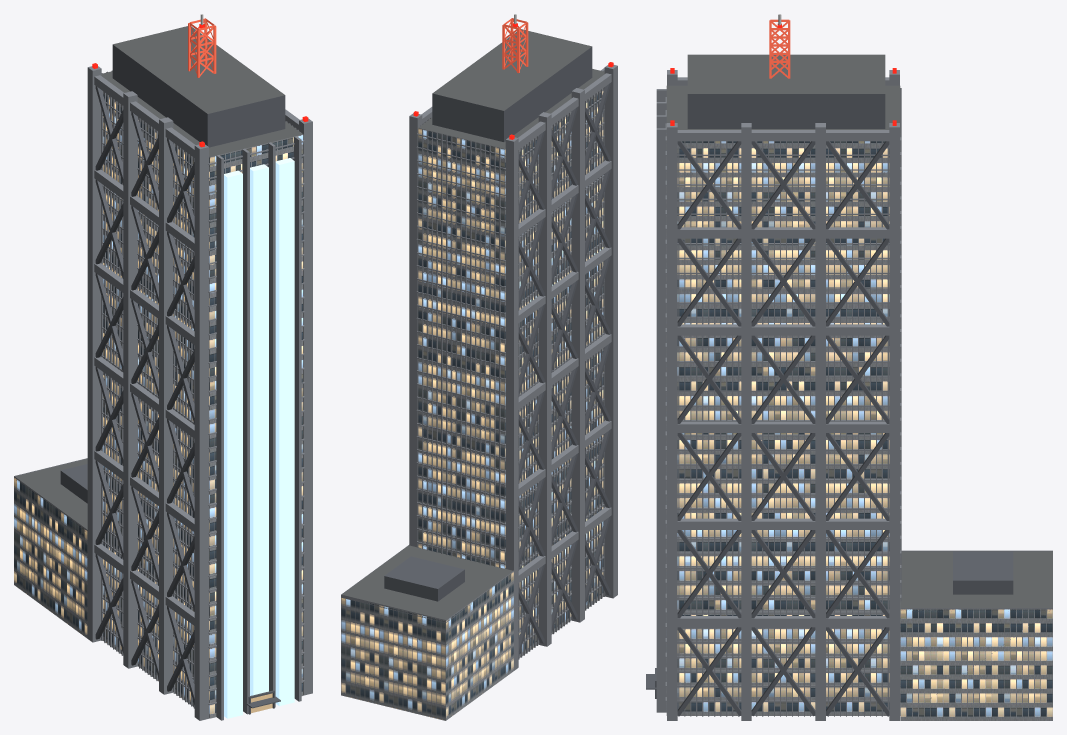
File: nittele_tower.glb
3 views of the same model, side by side, from view 1: azimuth 30°, elevation 25°; view 2: azimuth 150°, elevation 25°; view 3: azimuth 270°, elevation 25° (orthographic). The views are drawn at different scales.
Visible parts, largest first — view 1: nittele_tower; view 2: nittele_tower; view 3: nittele_tower.
Boxes of the visible parts, x1=… form: nittele_tower: x1=14, y1=14, x2=312, y2=720; nittele_tower: x1=341, y1=14, x2=617, y2=720; nittele_tower: x1=646, y1=14, x2=1052, y2=720.
Bounding box in the file's own units: 35 × 193 × 105.
2 materials, 2 textured.
